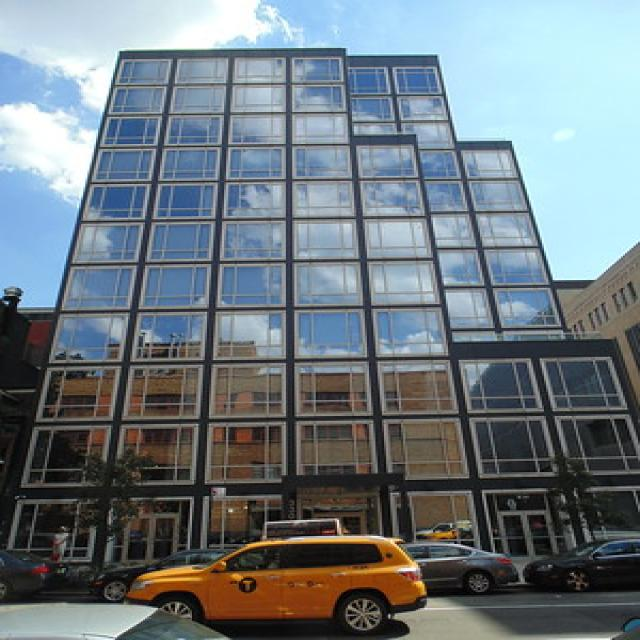building: (8, 41, 589, 620)
